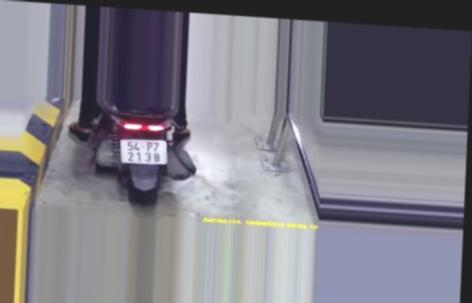License_Plate: (117, 136, 170, 169)
